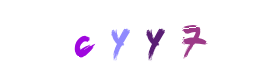7: (135, 0, 215, 80)
C: (42, 0, 122, 80)
Y: (92, 0, 172, 80), (99, 0, 179, 80)
